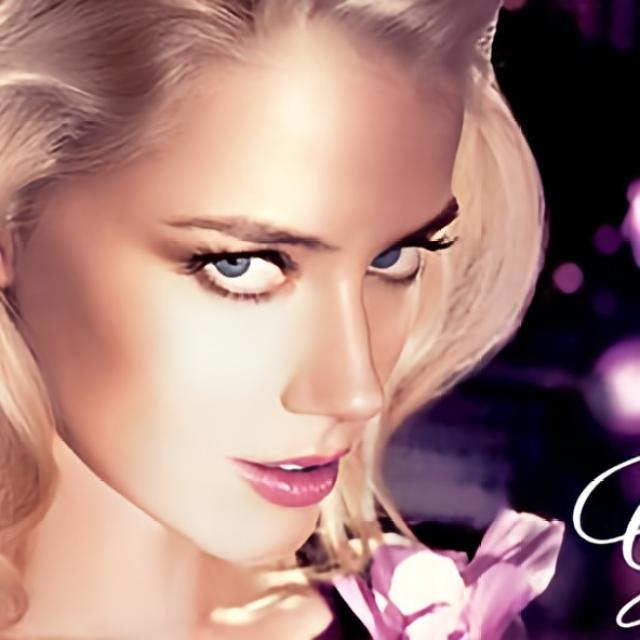neutral: (2, 4, 460, 568)
